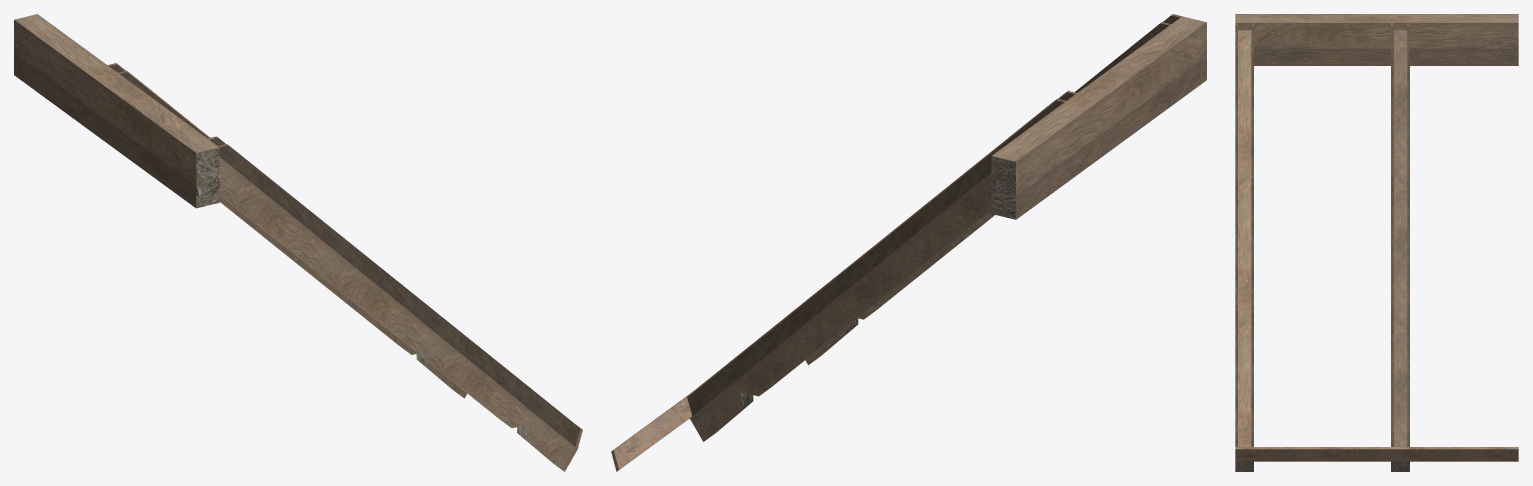
The model's file is RafterMidC.fbx.
3 renders of one model, left to right at view 1: azimuth 30°, elevation 25°; view 2: azimuth 150°, elevation 25°; view 3: azimuth 270°, elevation 25°, orthographic. The views are drawn at different scales.
Visible parts, largest first — view 1: RafterMidC; view 2: RafterMidC; view 3: RafterMidC.
Part boxes in pixels (x1,y1,x2,y2): RafterMidC: (14,14,582,471); RafterMidC: (611,14,1206,471); RafterMidC: (1235,14,1518,471).
Bounding box in the file's own units: 495 × 500 × 404.
